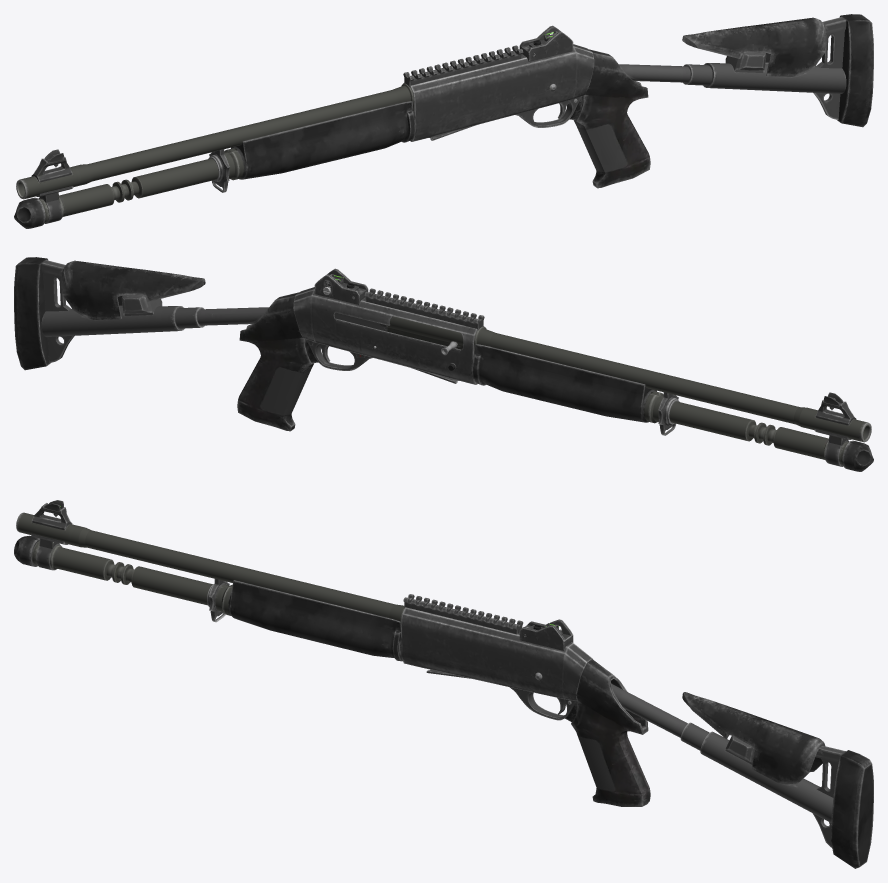
Rendered from shotgun-_benelli_m90_xm1014.glb.
3 renders of one model, top to bottom at view 1: azimuth 30°, elevation 25°; view 2: azimuth 150°, elevation 25°; view 3: azimuth 330°, elevation 25°, orthographic.
Parts seen in each view (by area): view 1: defaultMaterial; view 2: defaultMaterial; view 3: defaultMaterial.
Part boxes in pixels (x1,y1,x2,y2): defaultMaterial: (14,14,873,228); defaultMaterial: (14,257,873,471); defaultMaterial: (14,500,873,868).
Size of the model in its own units: 2 by 0.3786 by 0.1056.
Materials: 1 (1 with a texture image).
